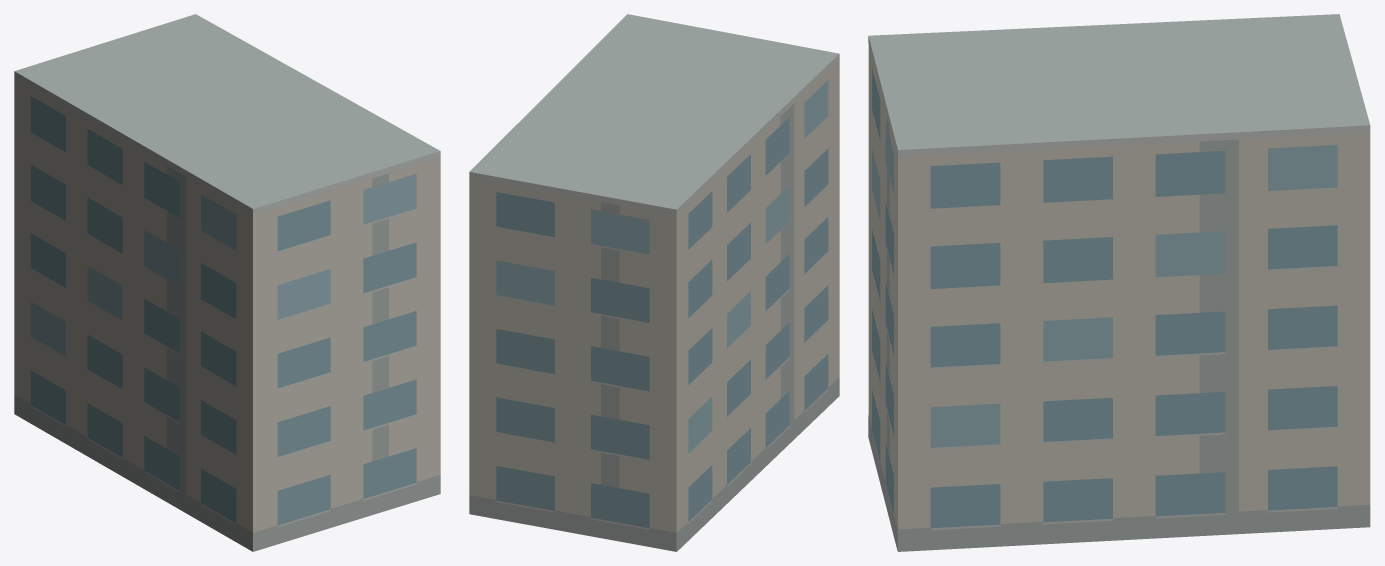
The model's file is survey-upis-32854415.glb.
3 views of the same model, side by side, from view 1: azimuth 30°, elevation 25°; view 2: azimuth 150°, elevation 25°; view 3: azimuth 270°, elevation 25° (orthographic). The views are drawn at different scales.
Parts seen in each view (by area): view 1: survey-upis-32854415.tmp; view 2: survey-upis-32854415.tmp; view 3: survey-upis-32854415.tmp.
Boxes of the visible parts, bbox=[...] form: survey-upis-32854415.tmp: bbox=[14, 14, 440, 551]; survey-upis-32854415.tmp: bbox=[469, 14, 839, 551]; survey-upis-32854415.tmp: bbox=[868, 14, 1370, 551].
Size of the model in its own units: 9.74 by 13.4 by 15.18.
